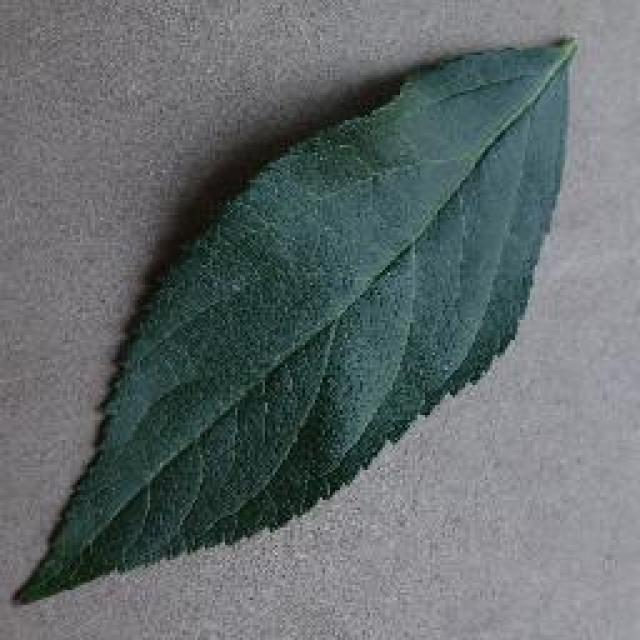apple healthy: (8, 30, 580, 605)
